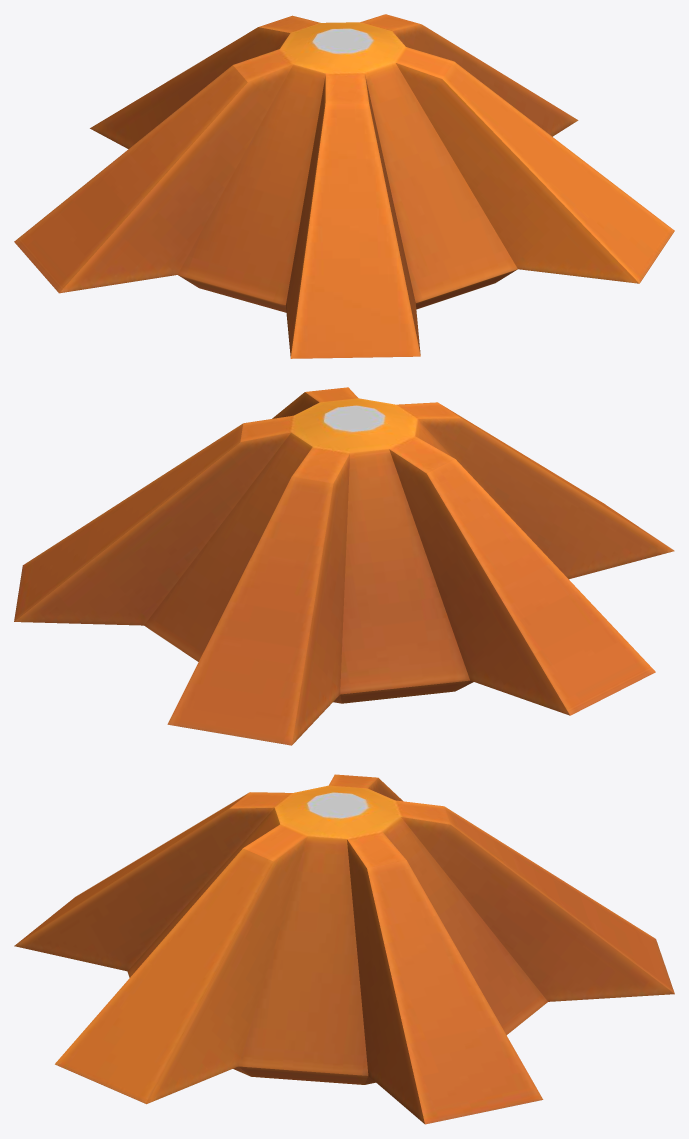
The model's file is obj_gear01_base.gltf.
3 renders of one model, top to bottom at view 1: azimuth 30°, elevation 25°; view 2: azimuth 150°, elevation 25°; view 3: azimuth 270°, elevation 25°, orthographic. The views are drawn at different scales.
Parts seen in each view (by area): view 1: obj_gear01_base; view 2: obj_gear01_base; view 3: obj_gear01_base.
Boxes of the visible parts, <box> form: obj_gear01_base: <box>14,14,674,358</box>; obj_gear01_base: <box>14,387,674,745</box>; obj_gear01_base: <box>14,774,674,1124</box>.
Size of what is drawn, in the model's own units: 0.3257 by 0.1093 by 0.3243.
1 material, 1 textured.
